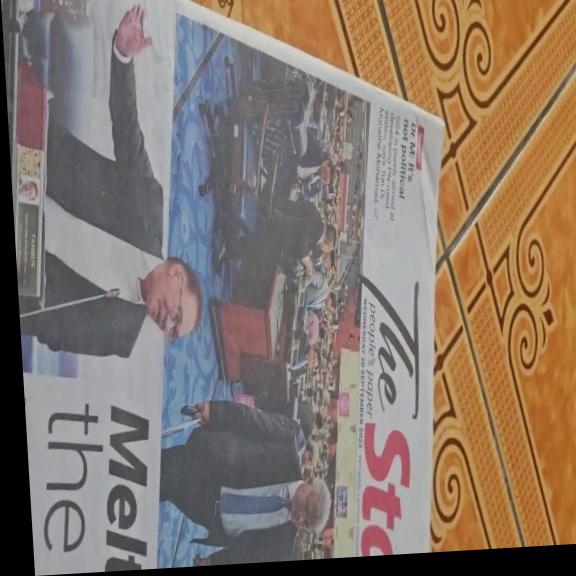Kertas: (14, 105, 431, 564)
